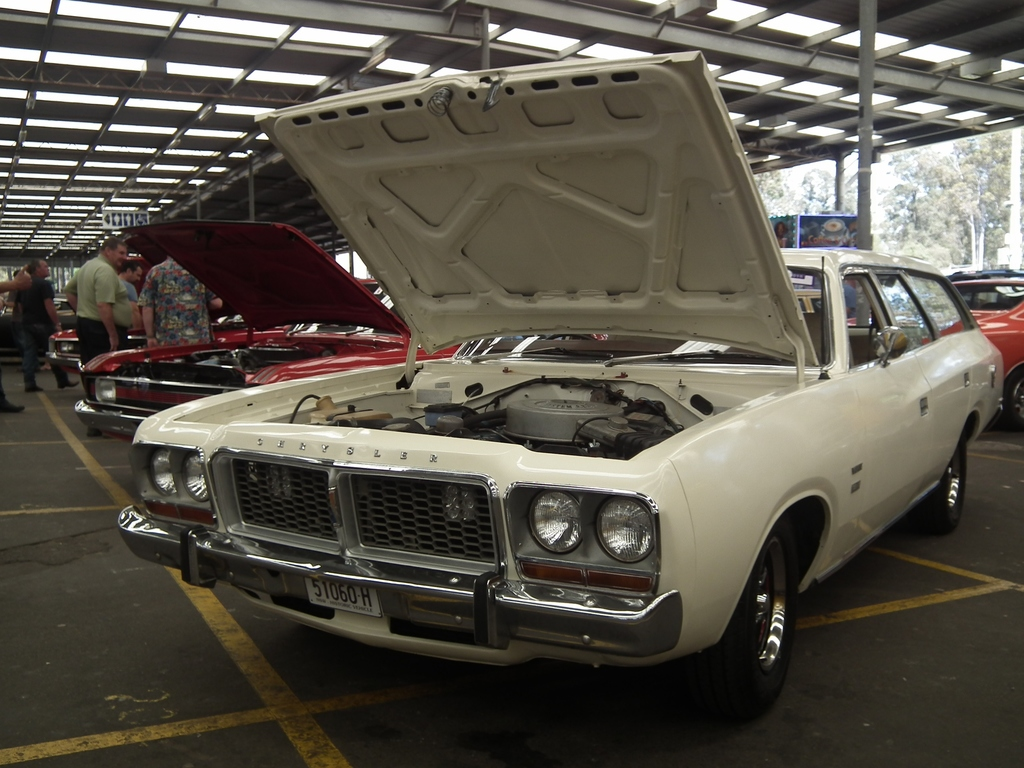cars: (105, 44, 1003, 726), (72, 217, 462, 434), (846, 266, 1023, 429), (38, 317, 136, 361)
